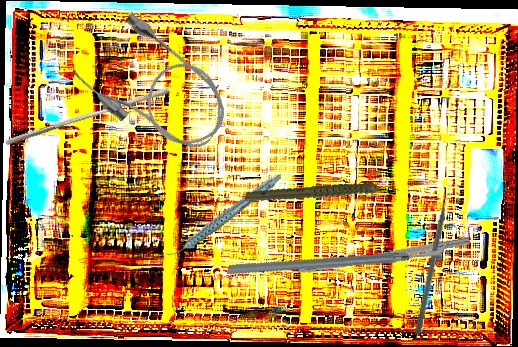Cannula: (67, 5, 243, 172)
Chopper: (226, 175, 451, 340), (268, 226, 471, 280)
Handpiece: (153, 171, 294, 260), (244, 159, 400, 229)
Pusher: (4, 81, 171, 152), (414, 183, 454, 337)
